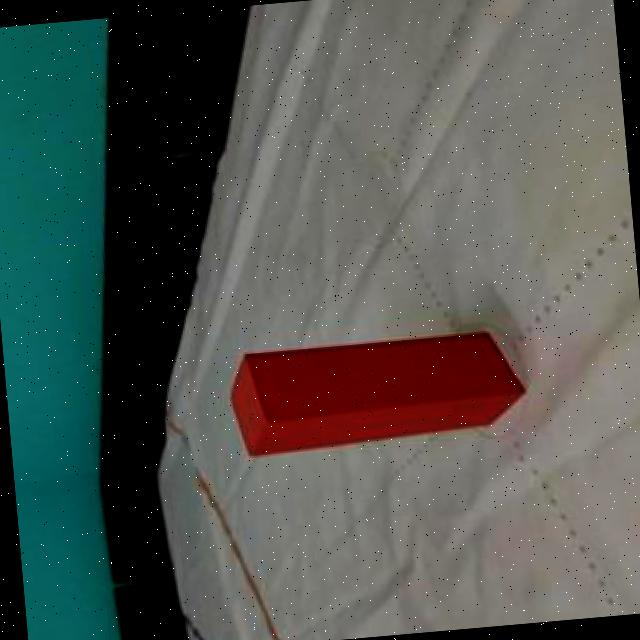redbox: (223, 331, 530, 456)
